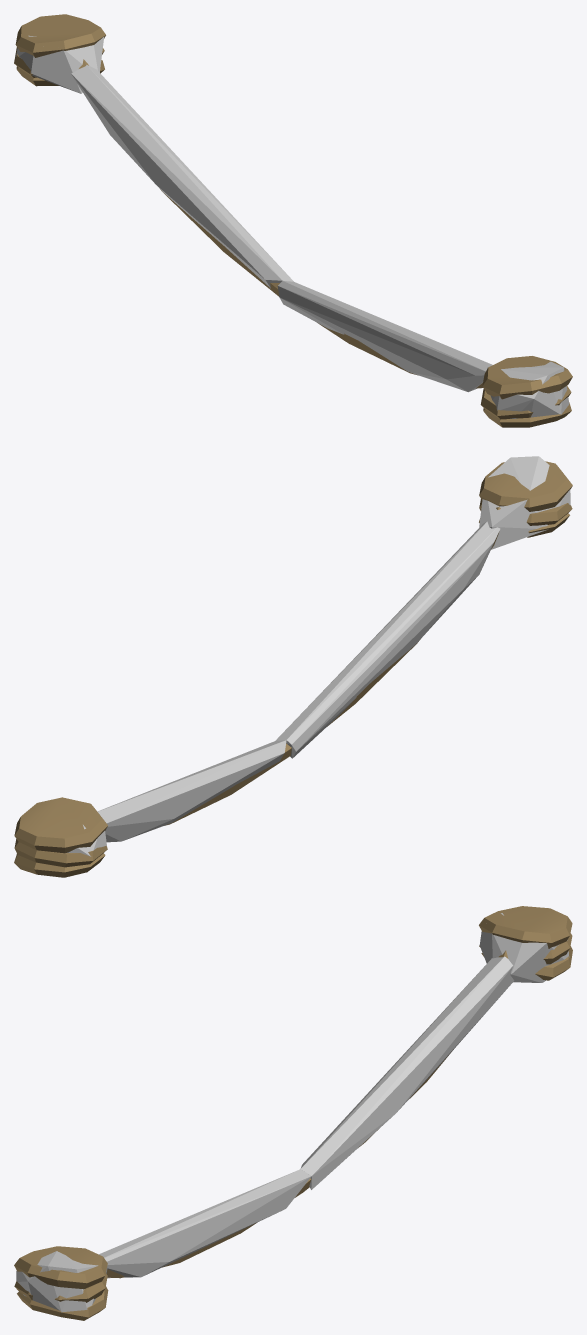
File: SM_Prop_Dock_Rope_01.fbx
3 renders of one model, top to bottom at view 1: azimuth 30°, elevation 25°; view 2: azimuth 150°, elevation 25°; view 3: azimuth 330°, elevation 25°, orthographic.
Parts seen in each view (by area): view 1: SM_Prop_Dock_Rope_01_ConvexHulls, SM_Prop_Dock_Rope_01; view 2: SM_Prop_Dock_Rope_01_ConvexHulls, SM_Prop_Dock_Rope_01; view 3: SM_Prop_Dock_Rope_01_ConvexHulls, SM_Prop_Dock_Rope_01.
Boxes of the visible parts, left/top/right/bottom form: SM_Prop_Dock_Rope_01_ConvexHulls: left=16, top=35, right=569, bottom=418; SM_Prop_Dock_Rope_01: left=14, top=14, right=572, bottom=427; SM_Prop_Dock_Rope_01_ConvexHulls: left=67, top=456, right=570, bottom=856; SM_Prop_Dock_Rope_01: left=14, top=461, right=572, bottom=877; SM_Prop_Dock_Rope_01_ConvexHulls: left=16, top=913, right=569, bottom=1312; SM_Prop_Dock_Rope_01: left=14, top=906, right=572, bottom=1320.
Size of the model in its own units: 24.07 by 275 by 33.94.
Materials: 2 (1 with a texture image).
